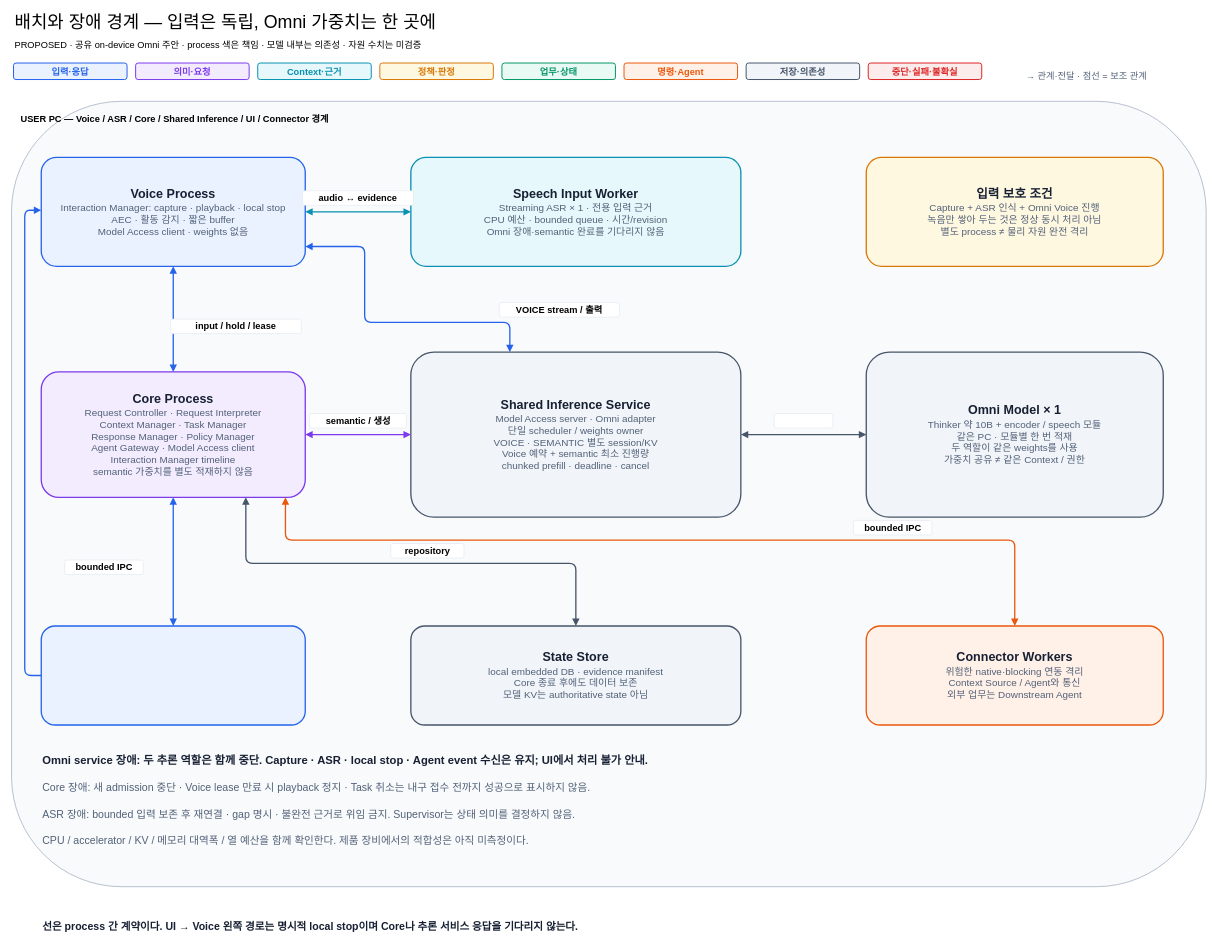
This 1218x945 diagram has some shape labels left out. The shapes that lost their labels are listed below. From the top down, each one's box as (x1, y1, x2, y2) in pixels, then its label:
(774, 413, 833, 428): 공유 추론
(40, 625, 306, 725): UI Process Text · 화면 evidence Core 연결 문제 표시 명시적 local stop
